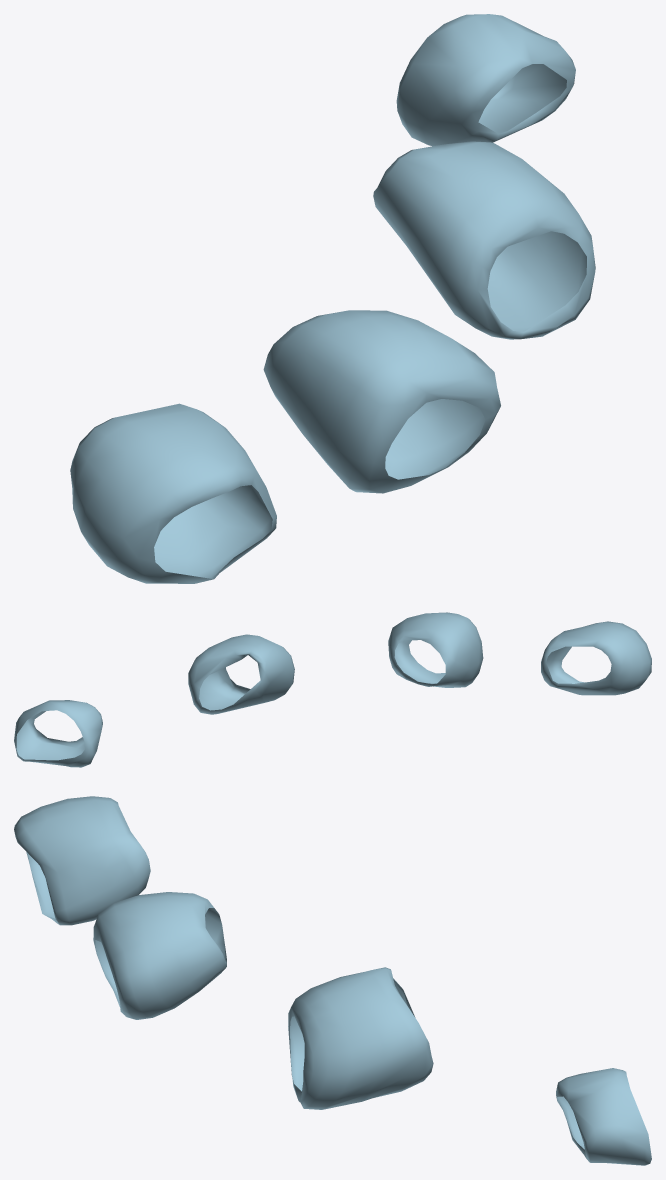
File: articulacoes-articular-capsules-of-distal-interphalangeal-joints-of-foot-l.glb
3 renders of one model, top to bottom at view 1: azimuth 30°, elevation 25°; view 2: azimuth 150°, elevation 25°; view 3: azimuth 270°, elevation 25°, orthographic. The views are drawn at different scales.
Parts seen in each view (by area): view 1: Articular capsules of distal interphalangeal joints of foot.; view 2: Articular capsules of distal interphalangeal joints of foot.; view 3: Articular capsules of distal interphalangeal joints of foot..
Boxes of the visible parts, x1=… form: Articular capsules of distal interphalangeal joints of foot.: x1=70, y1=14, x2=595, y2=583; Articular capsules of distal interphalangeal joints of foot.: x1=14, y1=612, x2=651, y2=767; Articular capsules of distal interphalangeal joints of foot.: x1=14, y1=796, x2=651, y2=1165.
Bounding box in the file's own units: 0.0491 × 0.00866 × 0.0451.
